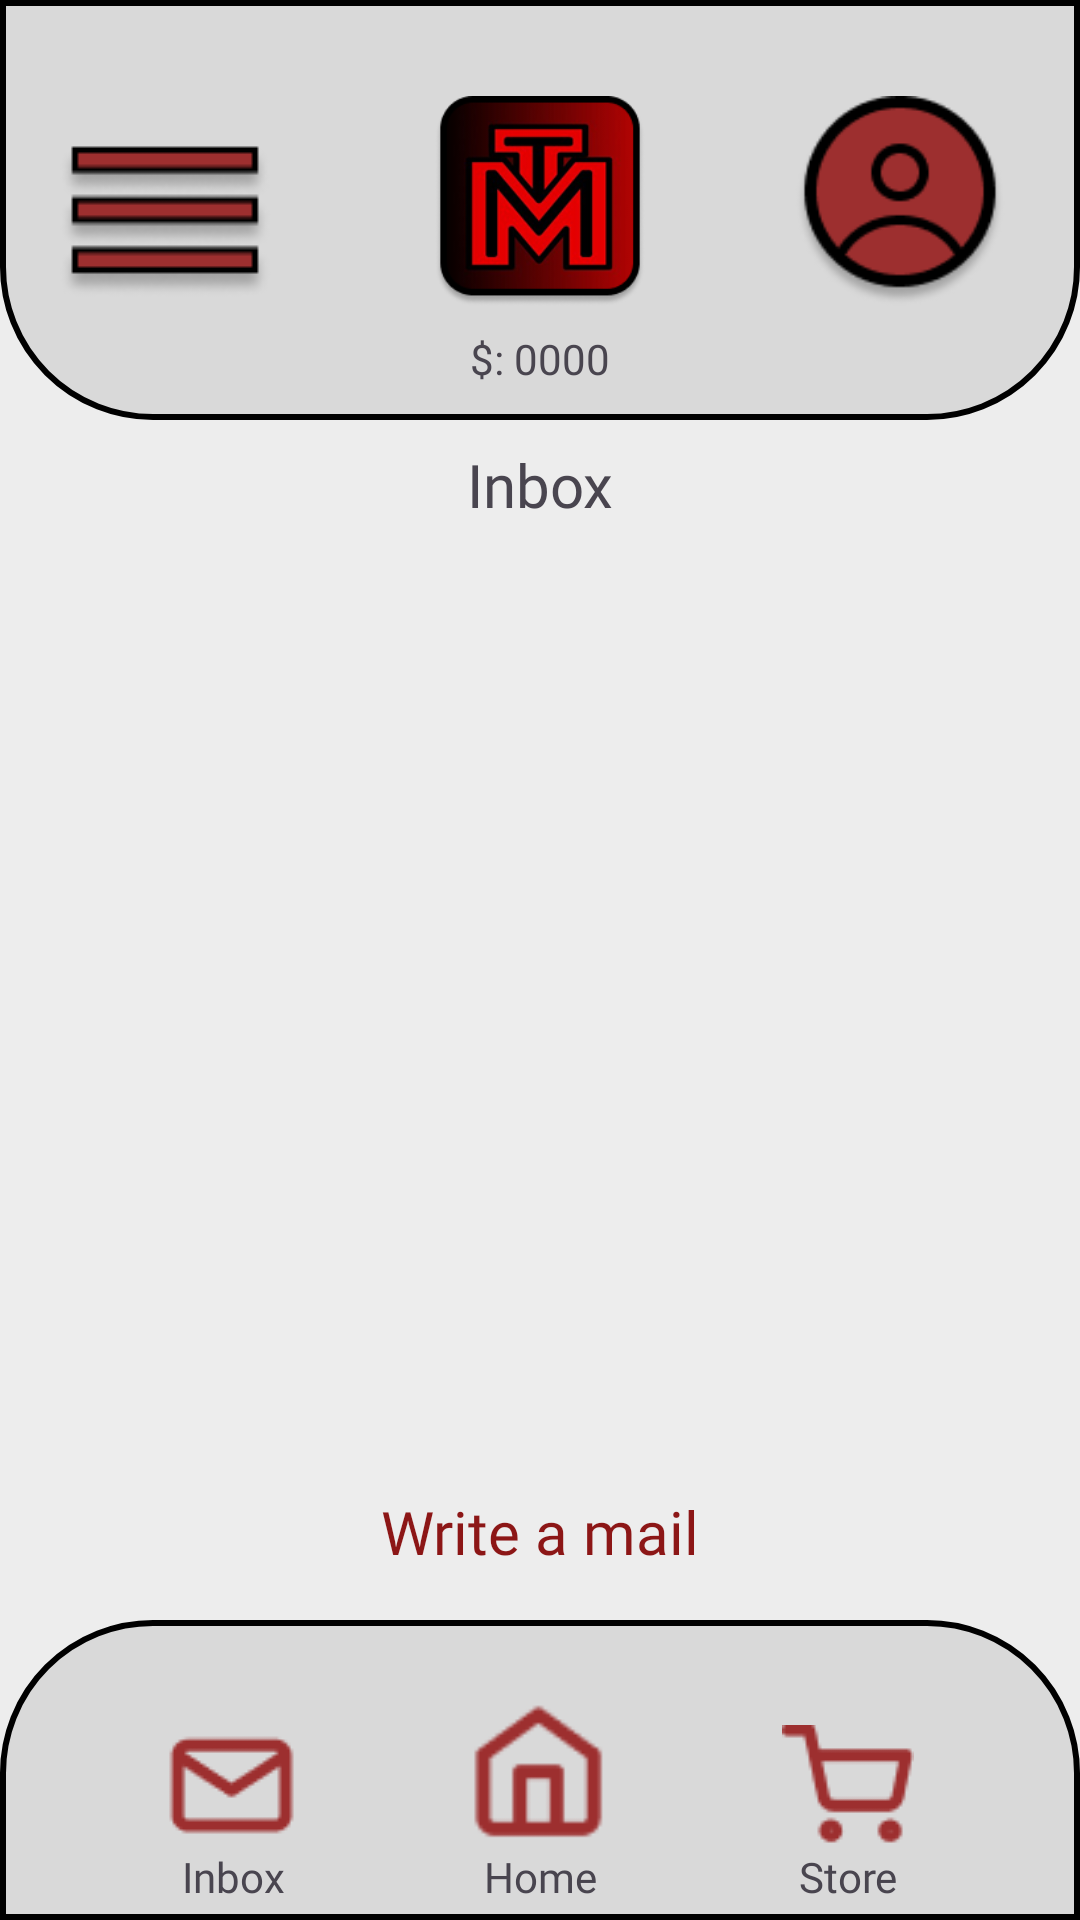

Named icons in this screenshot (1080*1920) and their centers, (x,y):
hamburger menu: (165,216)
mail: (232,1785)
shopping cart: (848,1784)
